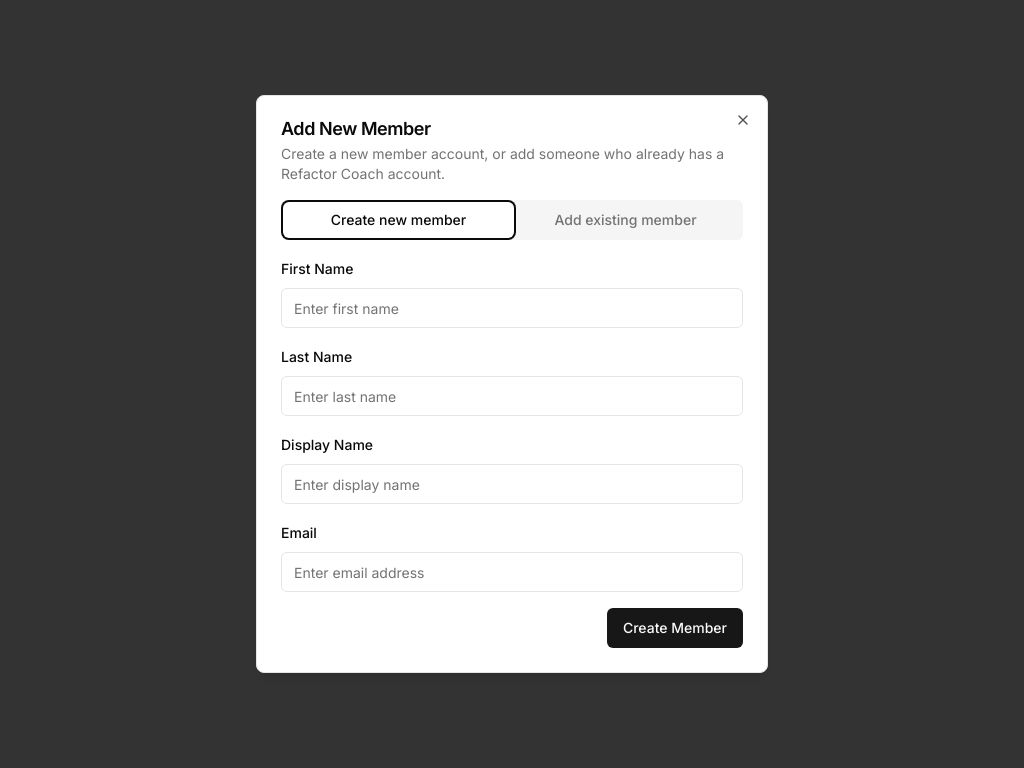
Test: AddMemberDialog – existing member lookup › reports no match without hinting at visibility, and keeps the add button disabled
The image size is (1024, 768).
Click the tab "Add existing member" at (626, 220), box [512,204,739,236]
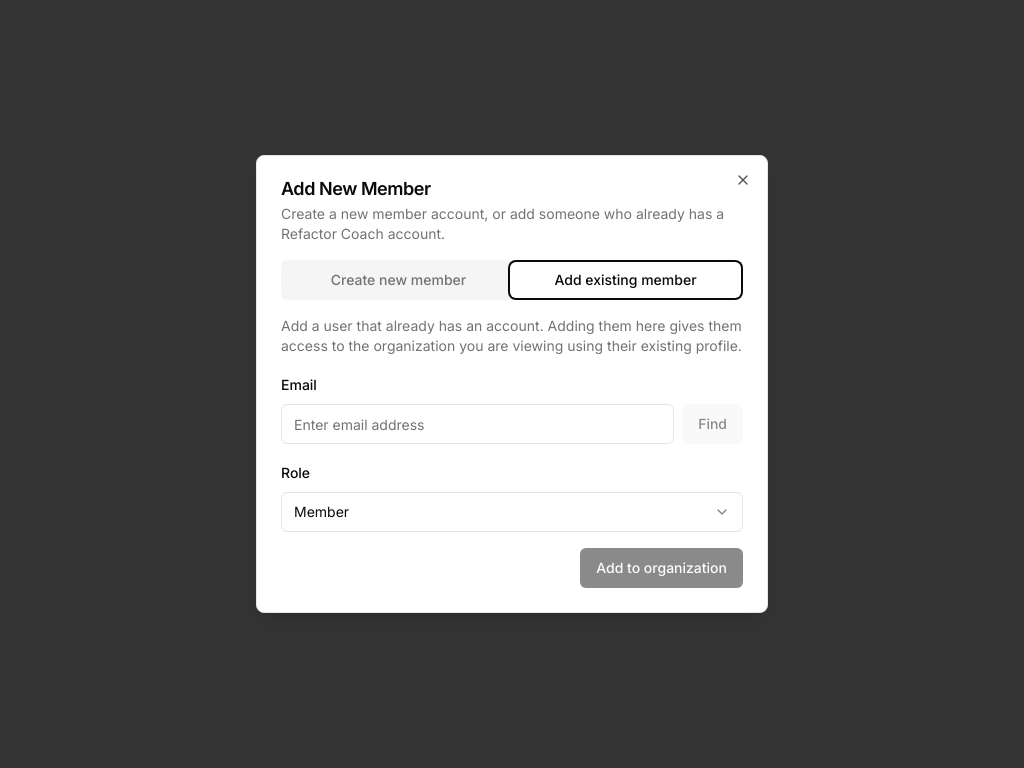
Type "nobody@example.com" into the field labelled "Email" at (478, 424), box [281,404,674,444]
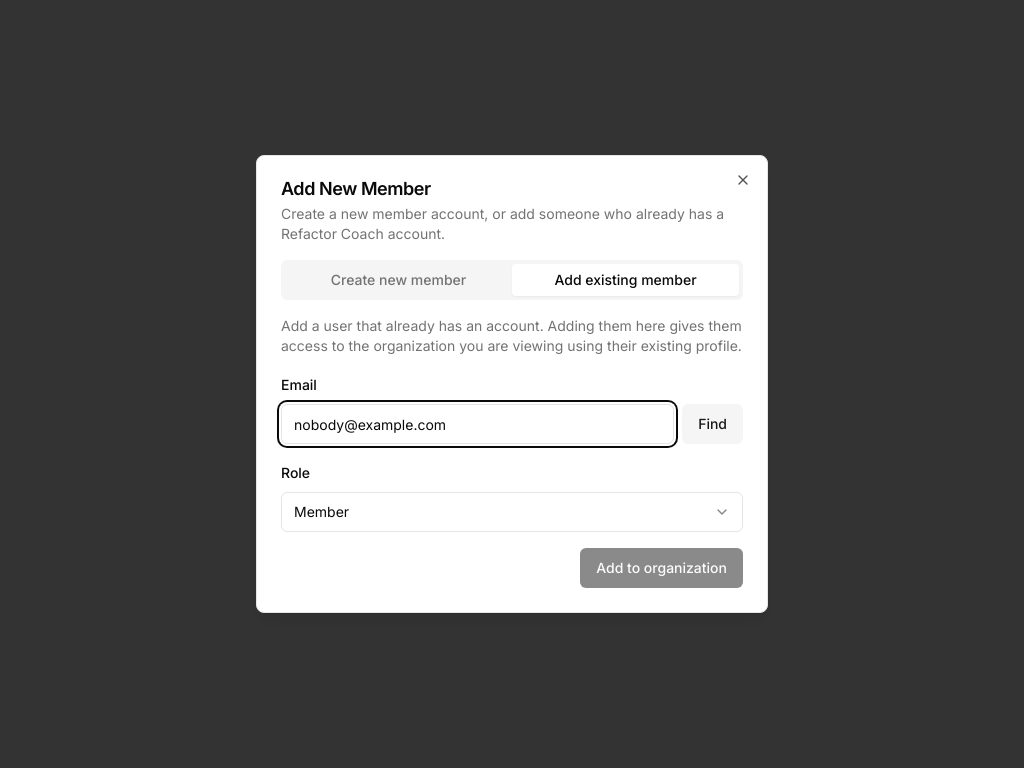
Click the button "Find" at (713, 424), box [682,404,743,444]
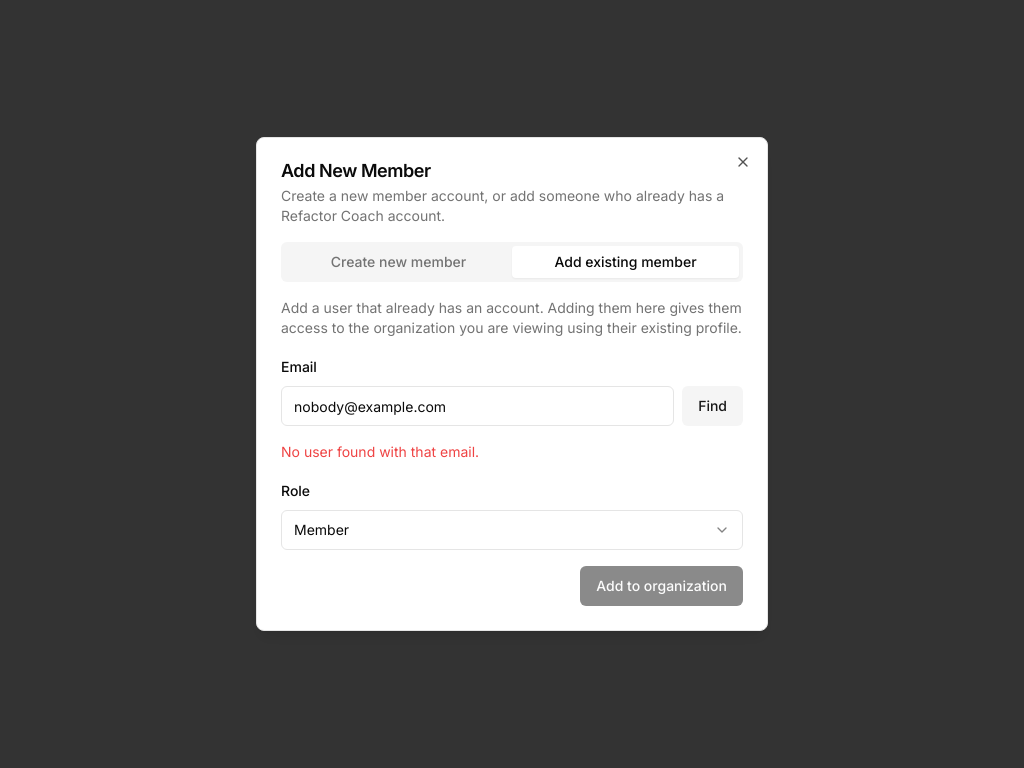
Now the button "Add to organization" is disabled, box [580,566,743,606]
Now the text "No user found with that email." is shown, box [281,443,479,460]
